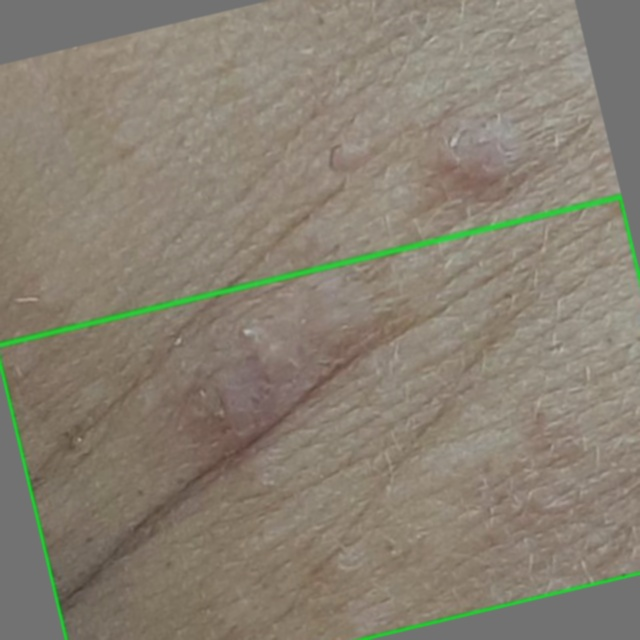Scabies: (0, 196, 639, 639)
